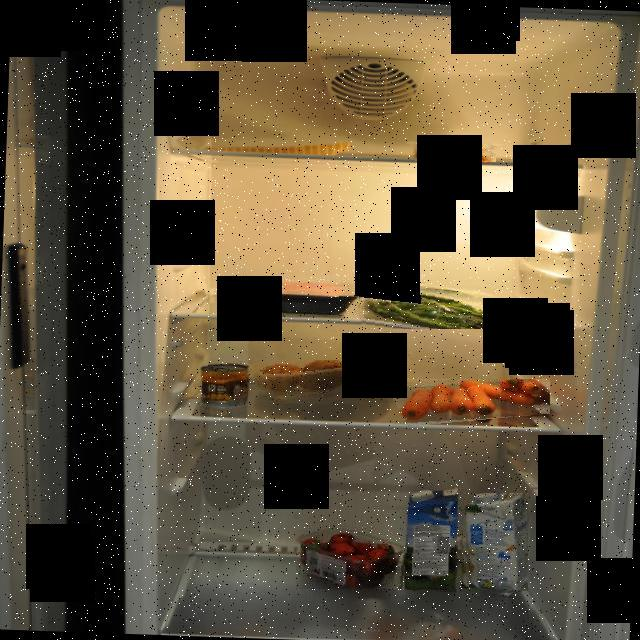carrot: (398, 379, 550, 427)
corn: (198, 363, 249, 406)
green_beans: (358, 282, 530, 330)
ground_beef: (238, 279, 362, 317)
milk: (459, 493, 528, 597), (404, 485, 462, 592)
potato: (260, 360, 398, 404)
shrimp: (409, 142, 496, 162)
strawberries: (296, 522, 408, 589)
